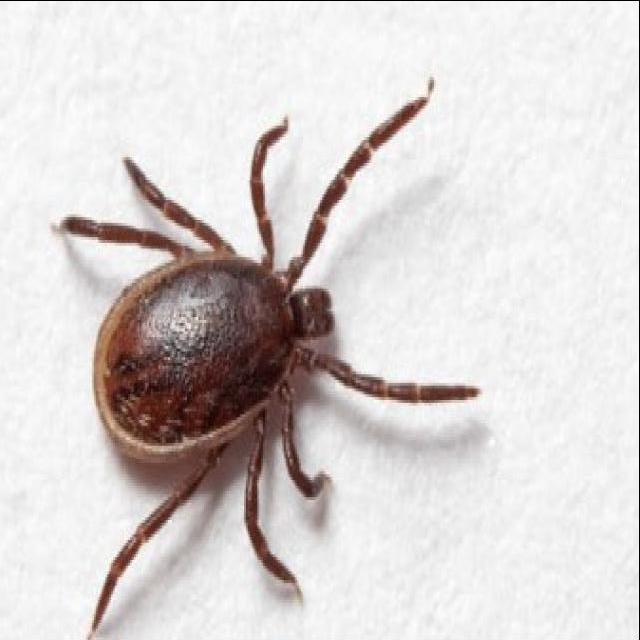Ixodes Ricinus-M: (57, 103, 480, 631)
